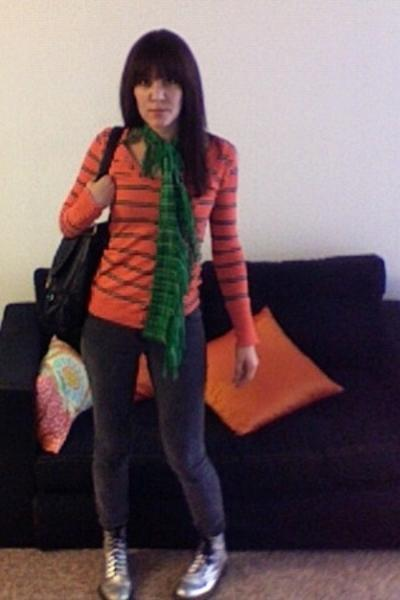bag: (20, 120, 140, 347)
jacket: (59, 128, 261, 333)
pants: (68, 306, 226, 539)
shoe: (99, 531, 226, 599)
